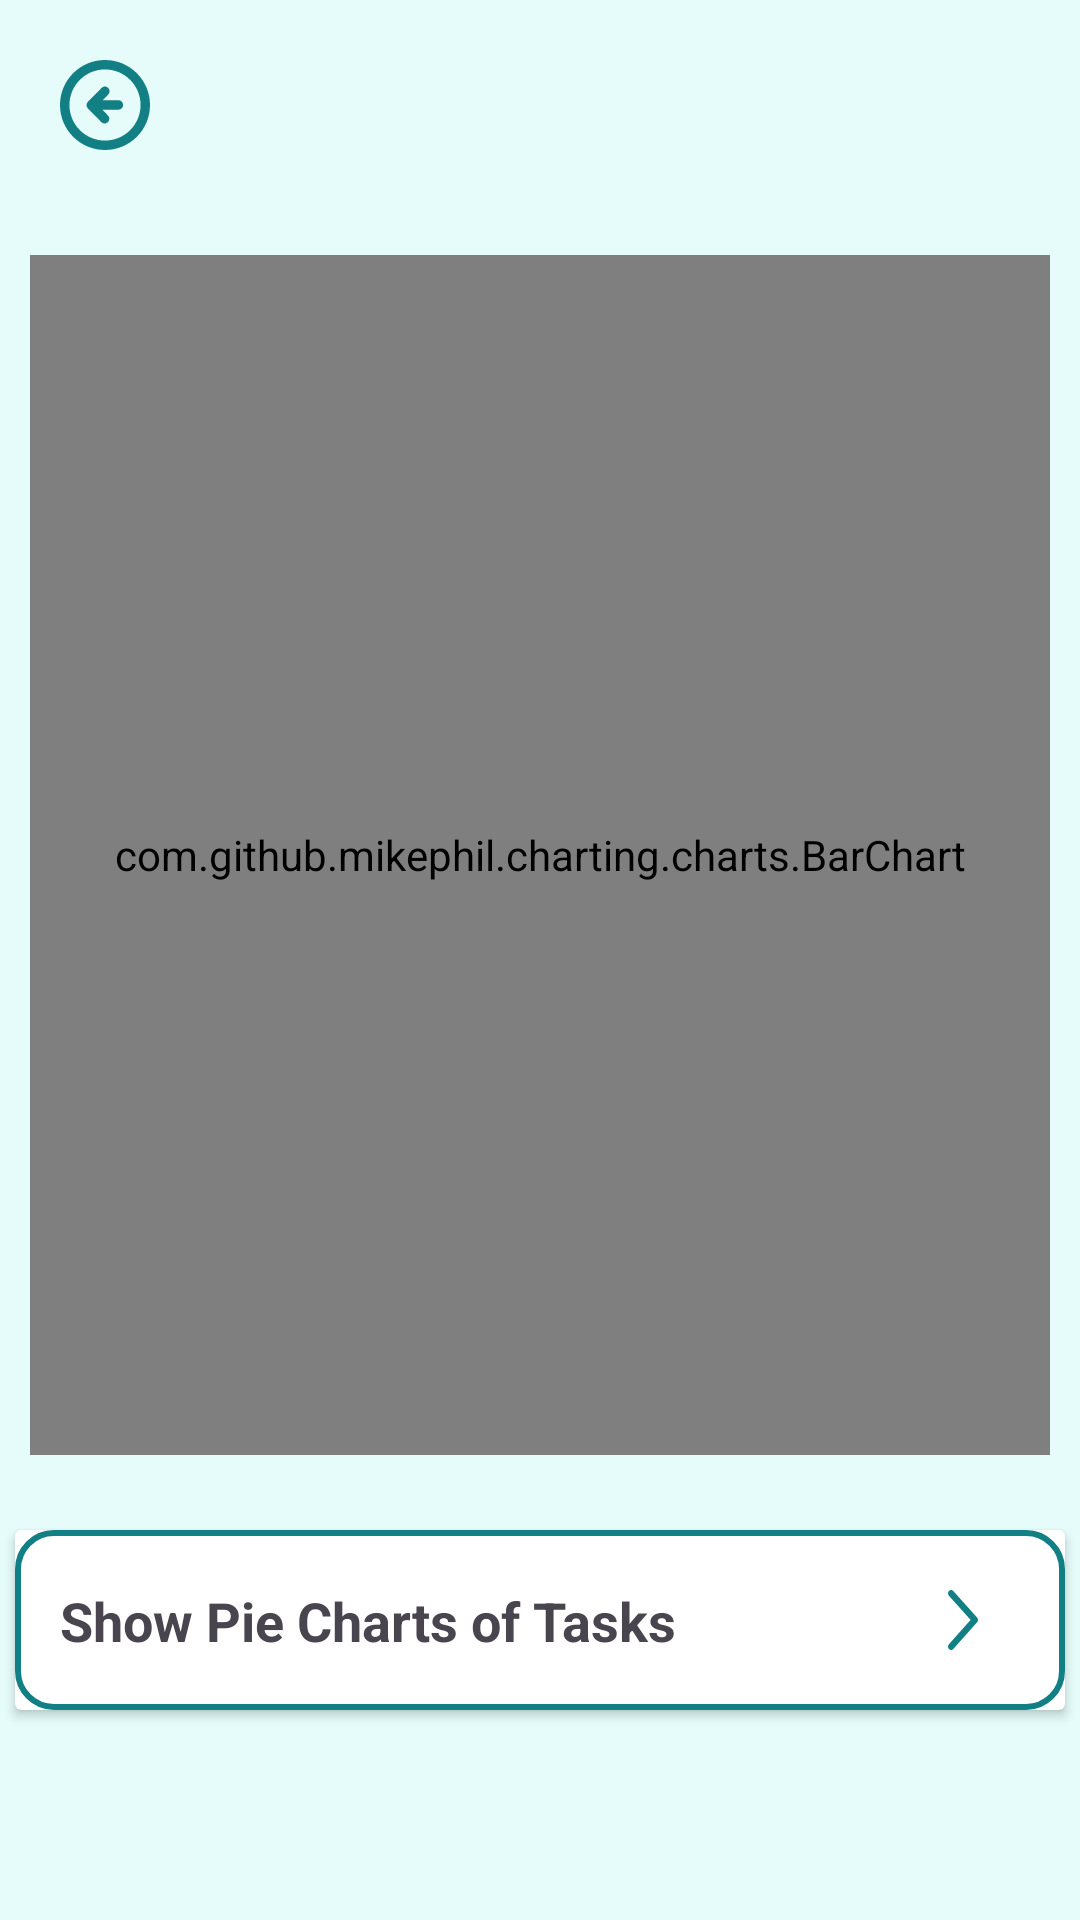

Screen size 1080x1920. Icon name, then its box in pixels as (x1, y1, x2, y2):
back: (60, 60, 150, 150)
next: (948, 1590, 978, 1650)
